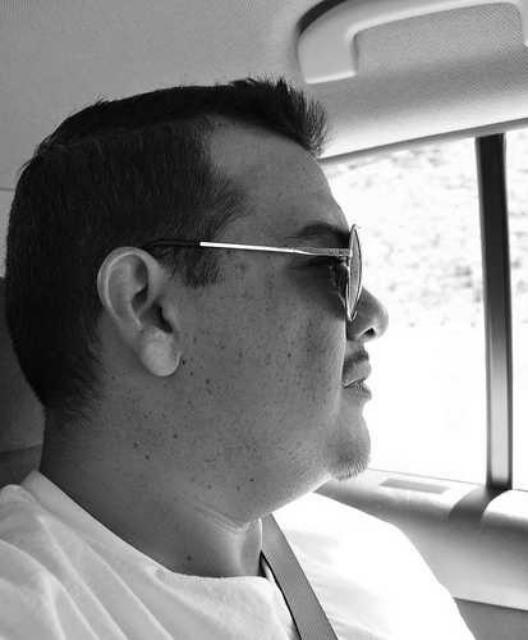Seatbelt: (251, 504, 345, 640)
